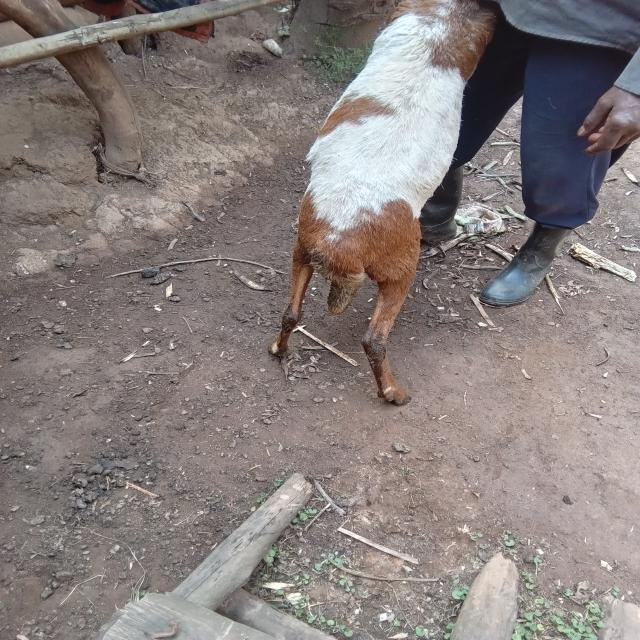sheep: (212, 0, 531, 449)
